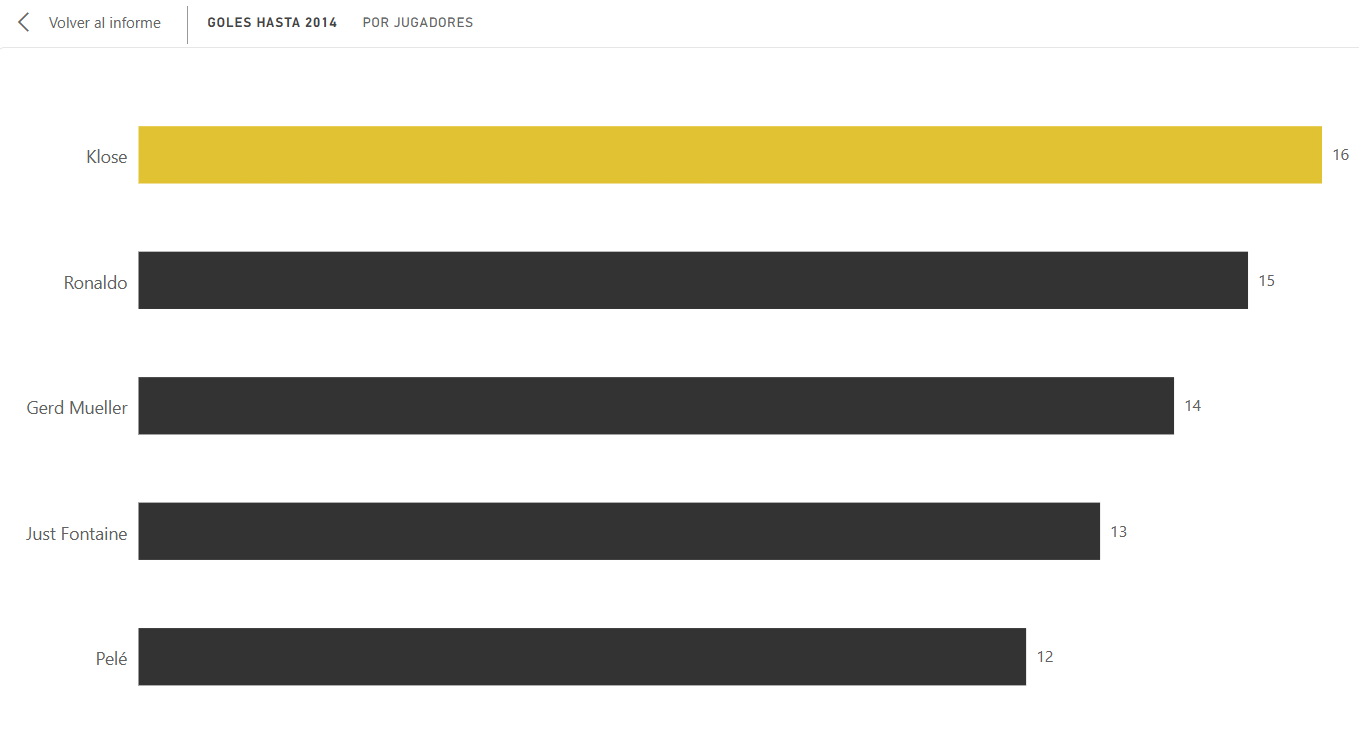

What the dashboard file says about the page in this screenshot:
{"tool":"powerbi","page":{"name":"Goleadores2014","canvas":[1920,1080],"ordinal":4},"visuals":[{"type":"clusteredBarChart","fields":{"Category":["vw_Top5_Goleadores.Player_Name"],"Y":["Sum(vw_Top5_Goleadores.Total_Goles)"]},"box":[0,0,1920,1080],"z":0}]}

Visuals, with their boxes on the page's 1920x1080 design canvas (x1, y1, x2, y2). These are canvas units, not pixel positions in the 1359x742 screenshot, which may show the page scaled, cropped or inside an application window:
clusteredBarChart - vw_Top5_Goleadores.Player_Name x Sum(vw_Top5_Goleadores.Total_Goles): l=0, t=0, r=1920, b=1080
